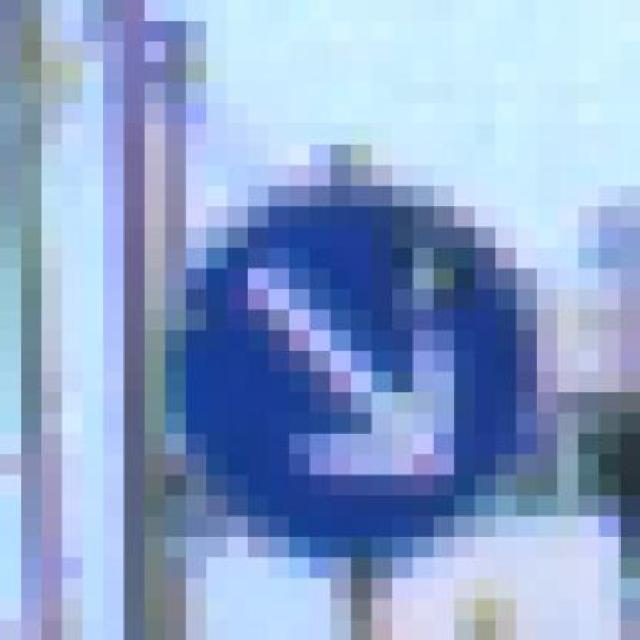Keep-Right: (144, 103, 578, 579)
